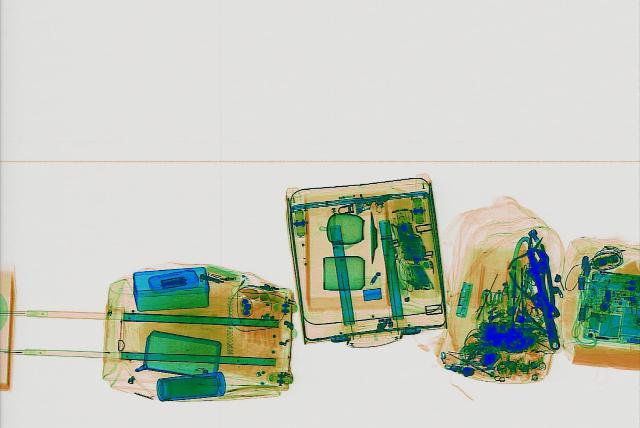Wrench: (520, 245, 572, 350)
